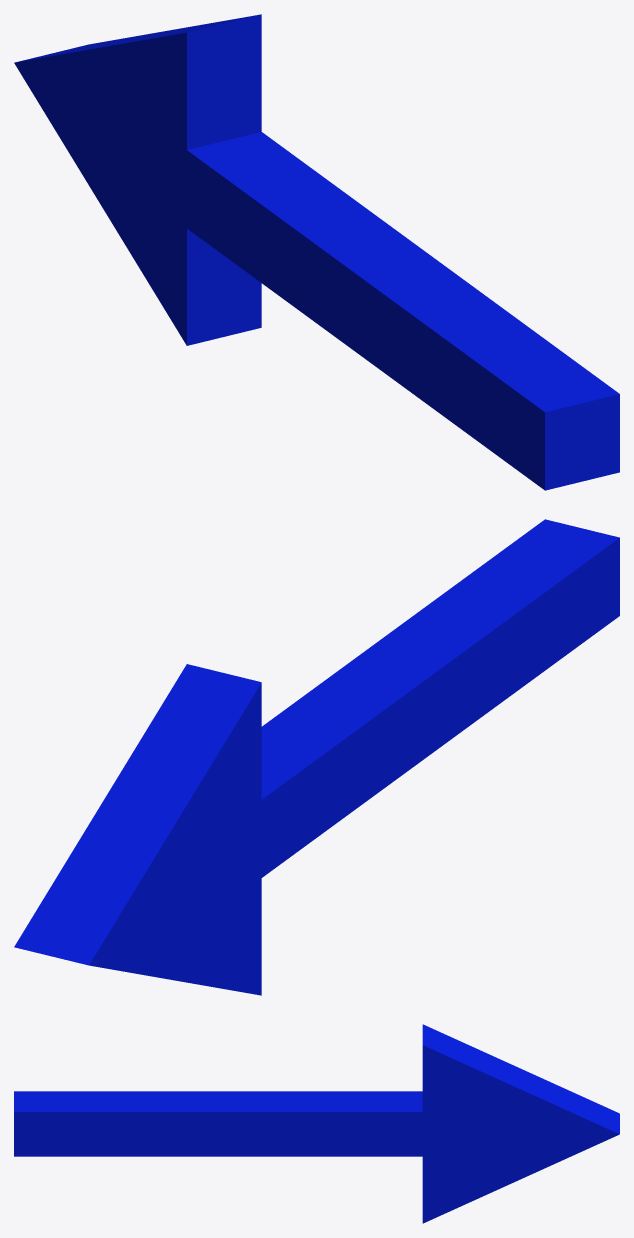
The model's file is Arrow.fbx.
3 renders of one model, top to bottom at view 1: azimuth 30°, elevation 25°; view 2: azimuth 150°, elevation 25°; view 3: azimuth 270°, elevation 25°, orthographic. The views are drawn at different scales.
Parts seen in each view (by area): view 1: Arrow; view 2: Arrow; view 3: Arrow.
Part boxes in pixels (x1,y1,x2,y2): Arrow: [14, 14, 619, 490]; Arrow: [14, 519, 619, 995]; Arrow: [14, 1024, 619, 1223].
Size of the model in its own units: 50 by 200 by 614.
